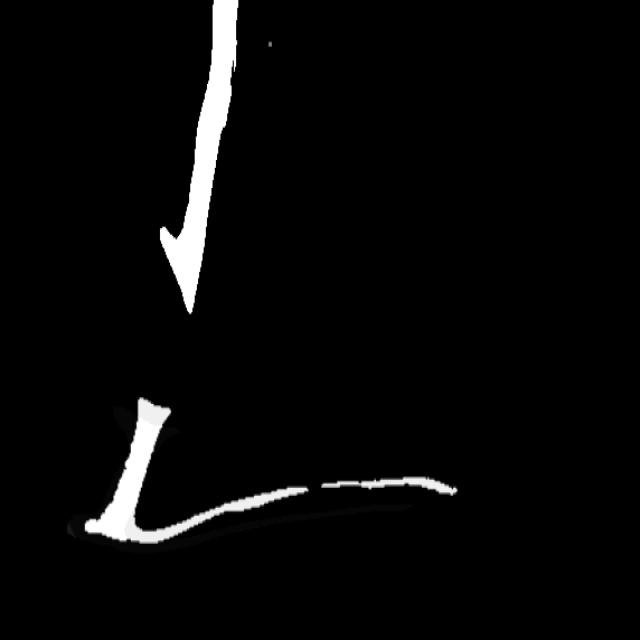sup: (301, 474, 330, 499)
